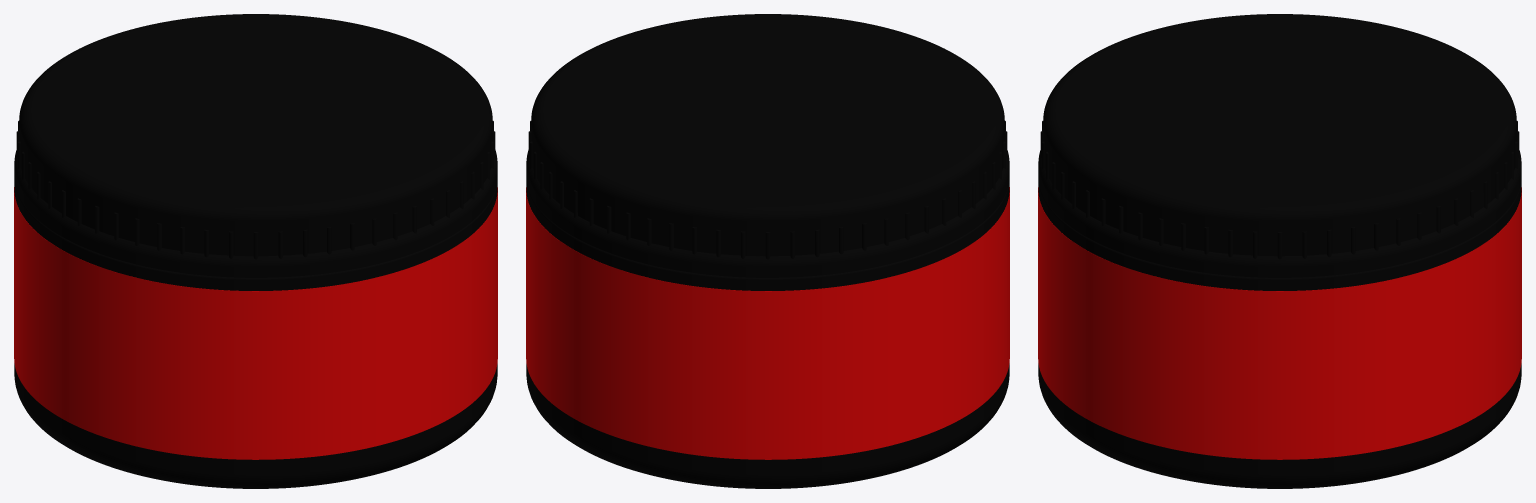
Rendered from supplement-circle.glb.
The picture shows the model from 3 angles, left to right: view 1: azimuth 30°, elevation 25°; view 2: azimuth 150°, elevation 25°; view 3: azimuth 270°, elevation 25°; orthographic projection.
Size of the model in its own units: 0.002 by 0.0013 by 0.002.
